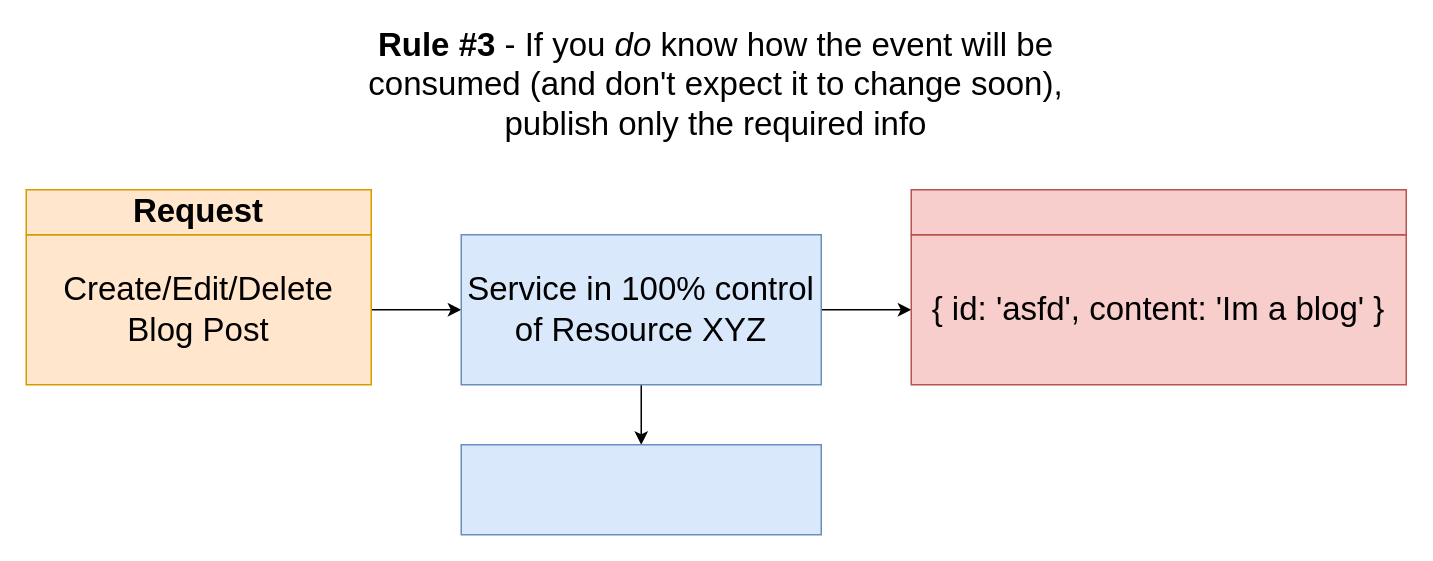
The diagram is 1433 pixels wide and 561 high, and some of its shapes have lost their labels. The shapes that lost their labels are listed below. From the top down, each one's centre as x and y in pixels, then its label:
pixel 1158 211: Event
pixel 640 489: Database
